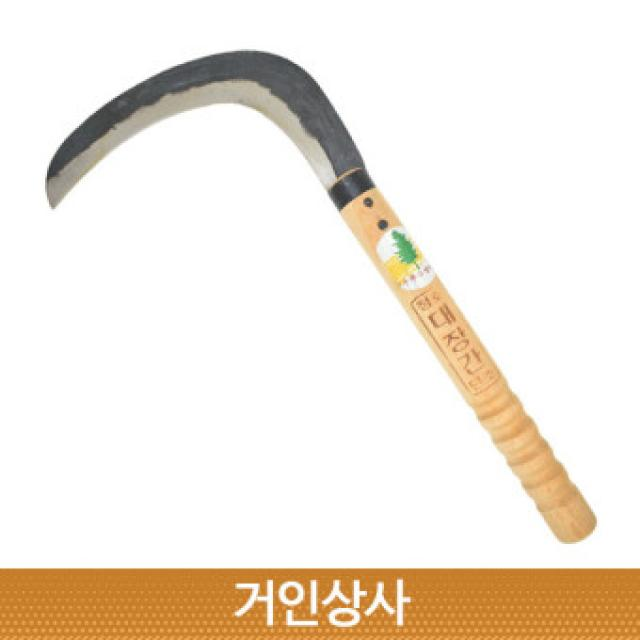sickle: (45, 43, 624, 588)
